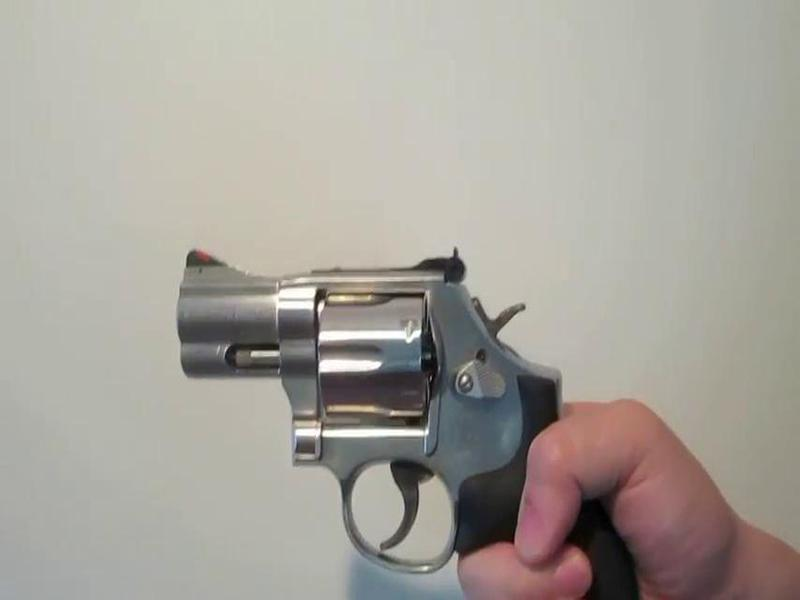Revolver: (163, 235, 662, 600)
